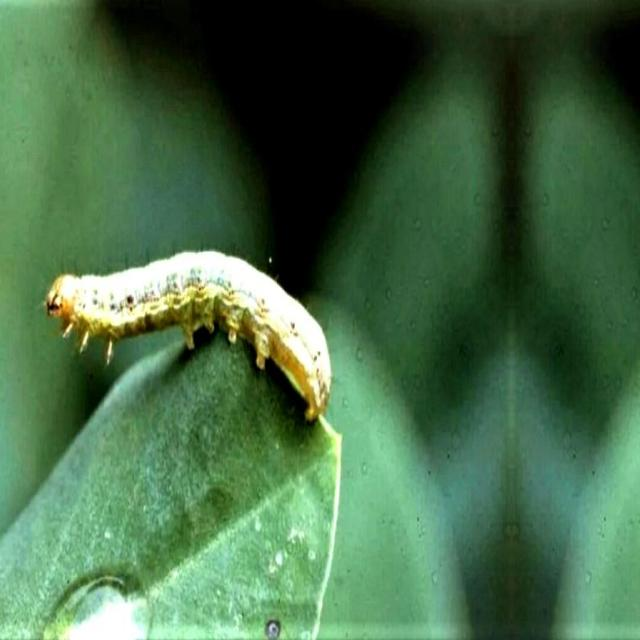Armyworm: (40, 209, 339, 478)
